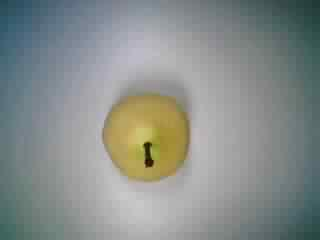pear: (93, 82, 202, 184)
